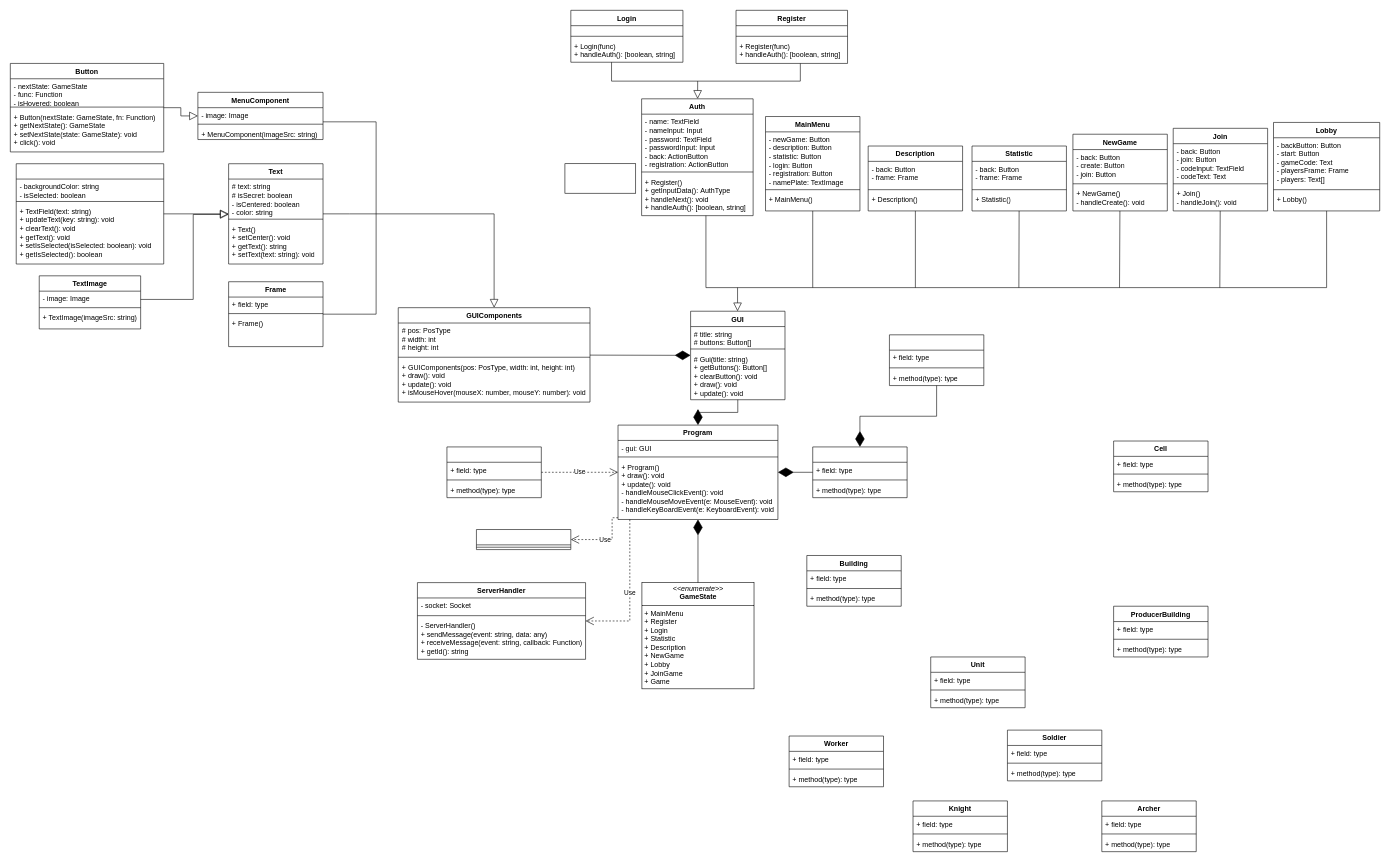
Some shapes in this 1390 by 864 pixel diagram are drawn without their labels. Here are the shapes that lost their labels. From the top down, the box of each, then its label:
(564, 163, 636, 193): <<AuthType>> username; string password: string
(16, 163, 164, 264): TextInput
(889, 334, 984, 386): Camera
(446, 446, 541, 498): main
(812, 446, 907, 498): Game
(476, 529, 571, 550): AbortController
